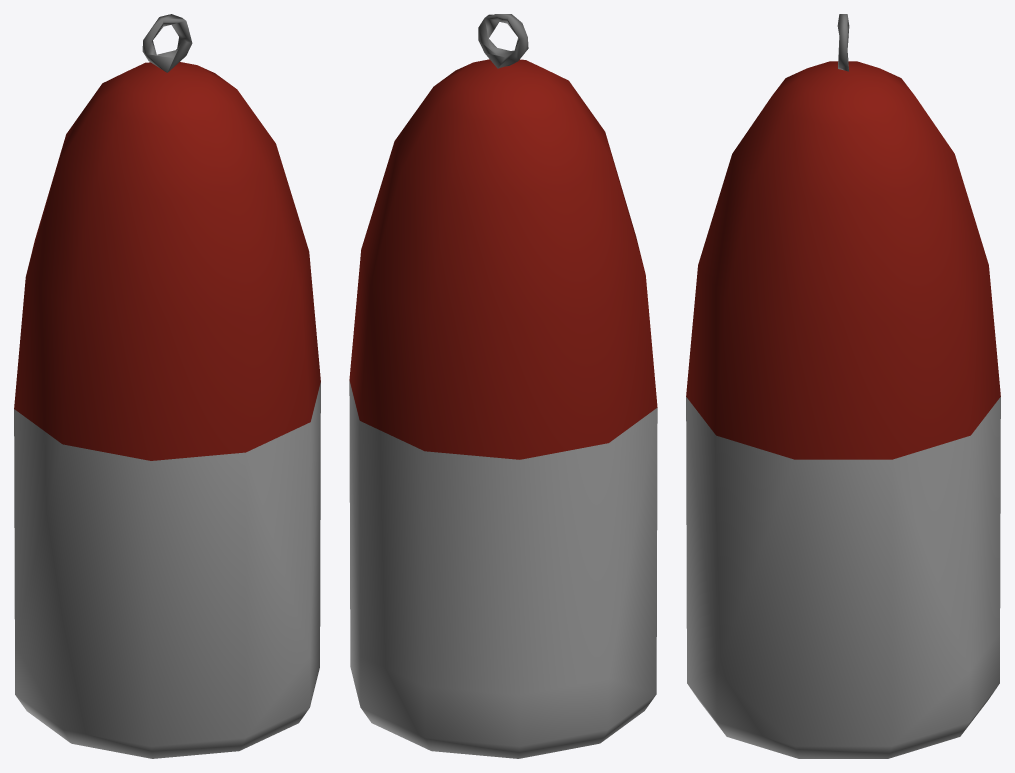
File: buoy.lod1.glb
The picture shows the model from 3 angles, left to right: view 1: azimuth 30°, elevation 25°; view 2: azimuth 150°, elevation 25°; view 3: azimuth 270°, elevation 25°; orthographic projection.
Visible parts, largest first — view 1: Object_4; view 2: Object_4; view 3: Object_4.
Boxes of the visible parts, box(x1,y1,x2,y2) form: Object_4: box(14, 14, 320, 758); Object_4: box(349, 14, 657, 758); Object_4: box(686, 14, 1000, 758).
Size of the model in its own units: 0.6334 by 1.6 by 0.666.
